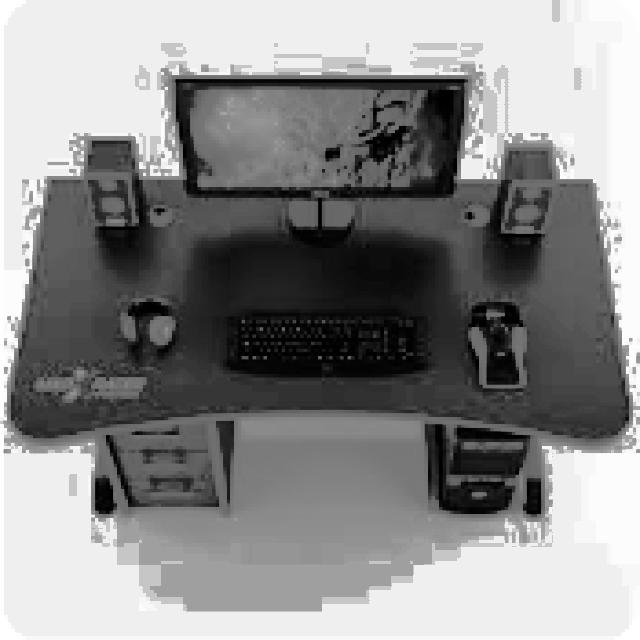table: (23, 162, 624, 598)
